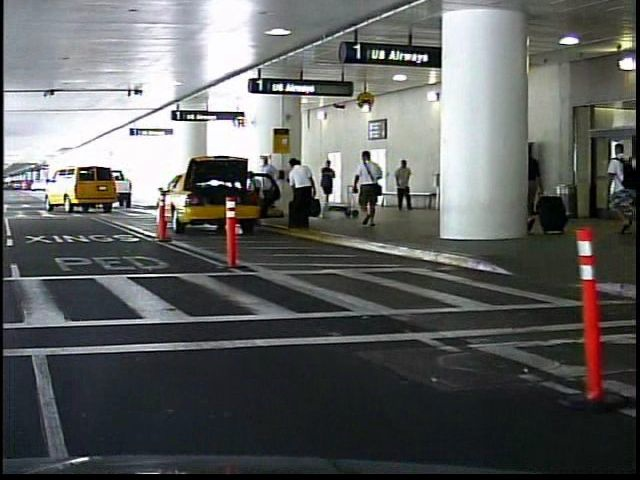person: (484, 137, 524, 236), (597, 142, 636, 236), (346, 146, 383, 231), (390, 153, 411, 215)
